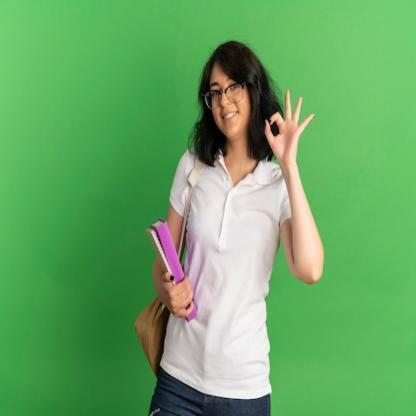ok: (262, 87, 318, 165)
